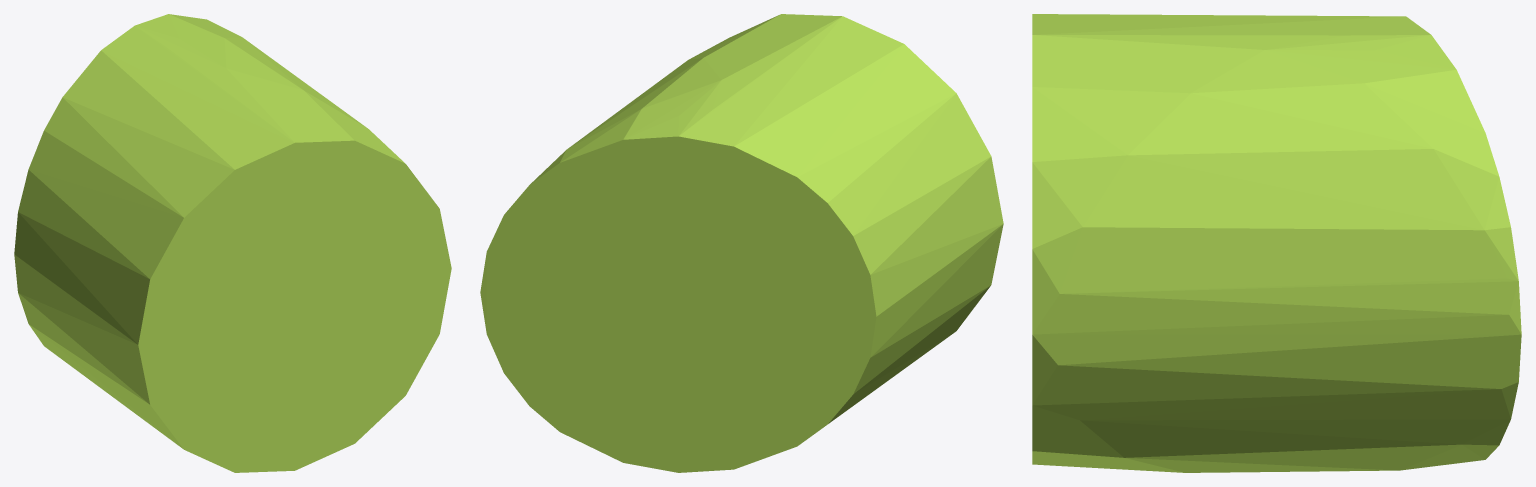
The model's file is industrial_06397_link_4_respondable_respondable_respondable_respondable_respondable_respondable_coll_2.dae.
3 views of the same model, side by side, from view 1: azimuth 30°, elevation 25°; view 2: azimuth 150°, elevation 25°; view 3: azimuth 270°, elevation 25° (orthographic). The views are drawn at different scales.
Visible parts, largest first — view 1: node; view 2: node; view 3: node.
Part boxes in pixels (box(x1,y1,x2,y2)): node: box(14, 14, 451, 472); node: box(480, 14, 1003, 472); node: box(1032, 14, 1521, 472).
Size of the model in its own units: 0.0751 by 0.075 by 0.0814.
